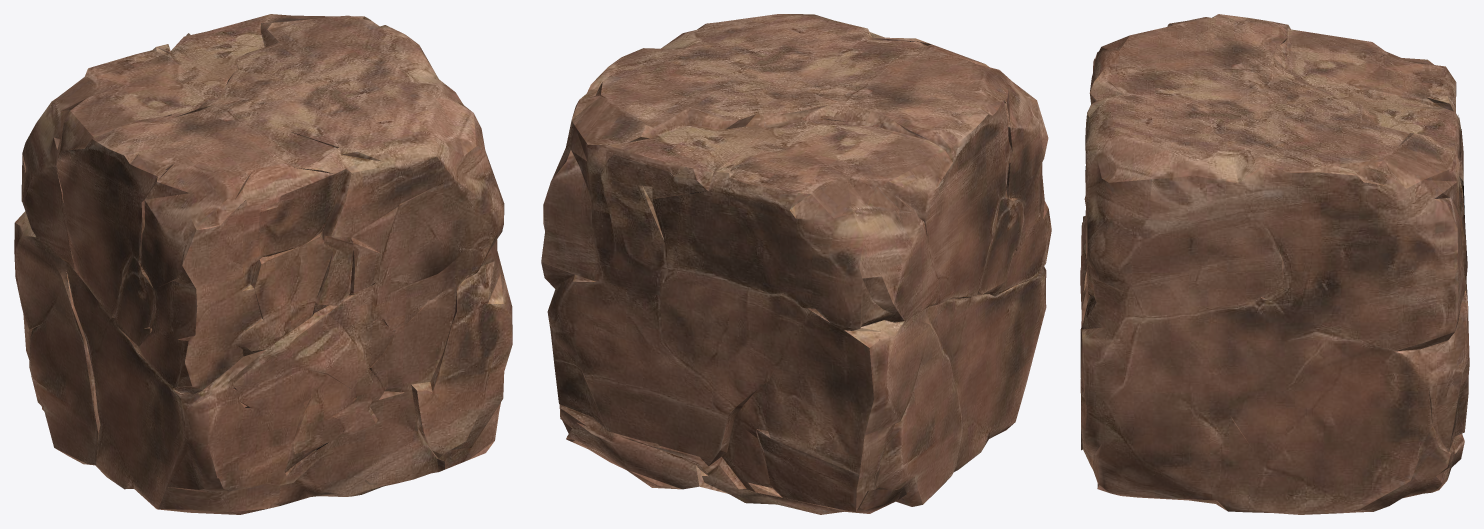
File: boulder_a.glb
3 renders of one model, left to right at view 1: azimuth 30°, elevation 25°; view 2: azimuth 150°, elevation 25°; view 3: azimuth 270°, elevation 25°, orthographic.
Parts seen in each view (by area): view 1: boulder_a; view 2: boulder_a; view 3: boulder_a.
Boxes of the visible parts, bbox=[...] form: boulder_a: bbox=[14, 14, 512, 514]; boulder_a: bbox=[541, 14, 1051, 514]; boulder_a: bbox=[1080, 14, 1469, 514].
Size of the model in its own units: 0.9987 by 0.9994 by 1.
1 material, 1 textured.
